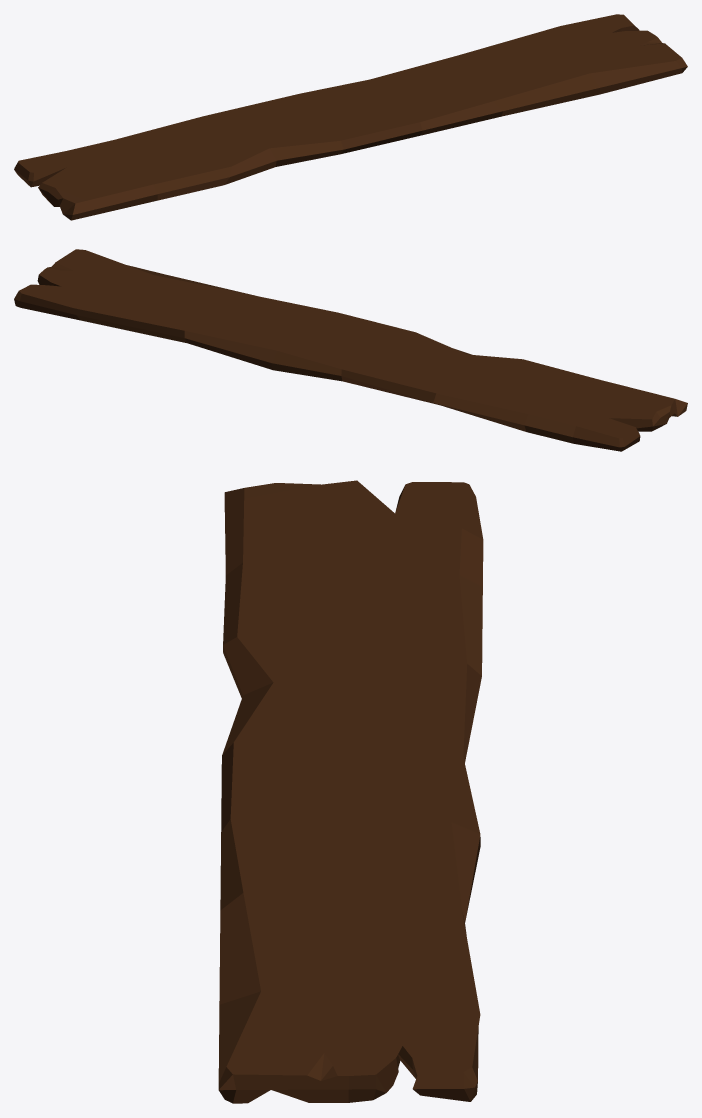
File: BridgePlank.fbx
3 views of the same model, one above another, from view 1: azimuth 30°, elevation 25°; view 2: azimuth 150°, elevation 25°; view 3: azimuth 270°, elevation 25° (orthographic). The views are drawn at different scales.
Visible parts, largest first — view 1: Plank; view 2: Plank; view 3: Plank.
Part boxes in pixels (x1,y1,x2,y2): Plank: (14,14,687,220); Plank: (14,249,687,451); Plank: (218,480,483,1103).
Bounding box in the file's own units: 3.39 × 0.0767 × 0.6338.
